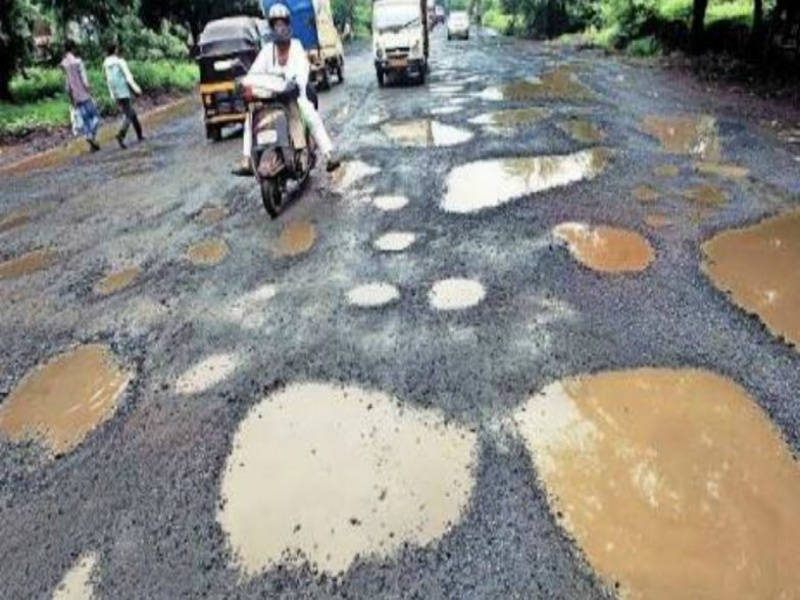pothole: (515, 359, 800, 600), (212, 375, 493, 582), (1, 337, 139, 463), (437, 141, 626, 220), (628, 105, 747, 179), (543, 216, 662, 280), (478, 64, 587, 101), (370, 115, 469, 147), (174, 353, 245, 397), (426, 274, 486, 314), (329, 158, 384, 193), (179, 235, 233, 269), (276, 217, 315, 263), (479, 105, 559, 127), (90, 264, 143, 297), (344, 280, 401, 308), (365, 227, 419, 254), (186, 203, 234, 225), (368, 193, 411, 212)
